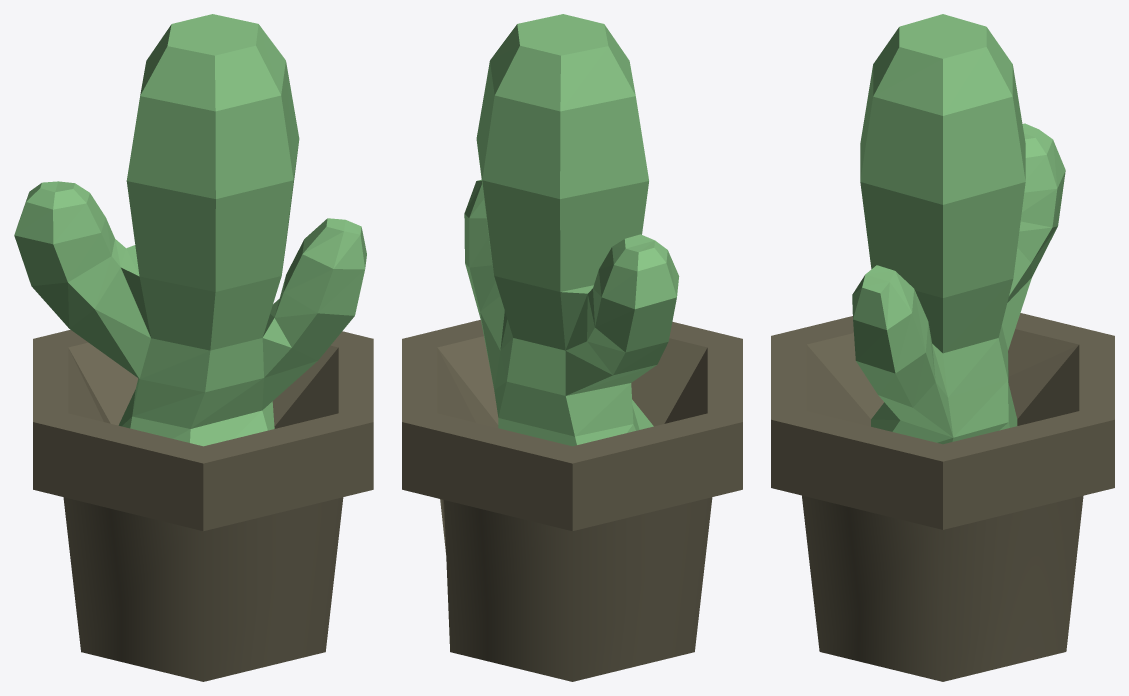
The model's file is Cacto.FBX.
3 views of the same model, side by side, from view 1: azimuth 30°, elevation 25°; view 2: azimuth 150°, elevation 25°; view 3: azimuth 270°, elevation 25° (orthographic).
Visible parts, largest first — view 1: Cactus; view 2: Cactus; view 3: Cactus.
Boxes of the visible parts, <box> form: Cactus: <box>14,14,373,681</box>; Cactus: <box>402,14,742,681</box>; Cactus: <box>771,14,1114,681</box>.
Bounding box in the file's own units: 190 × 312 × 165.
